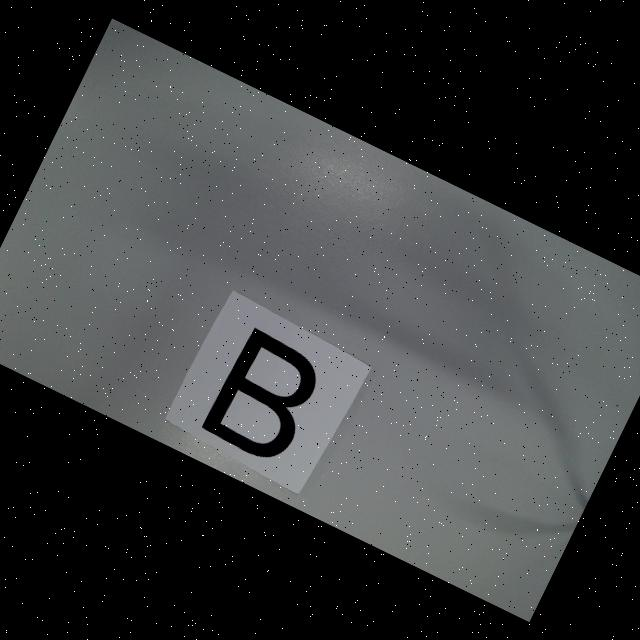FAKE: (200, 326, 330, 469)
